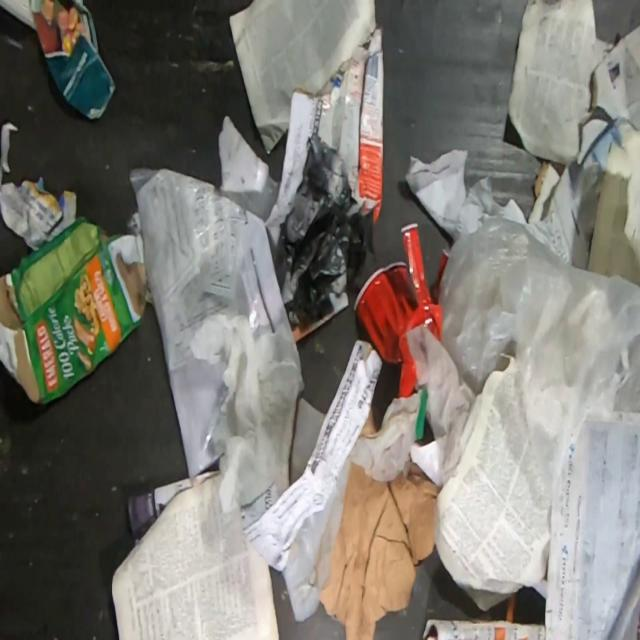cardboard: (0, 217, 148, 407), (527, 23, 640, 271), (308, 22, 384, 221)
rigid_plastic: (352, 220, 442, 397)
soft_plastic: (439, 218, 640, 499), (127, 164, 290, 477), (274, 135, 377, 327)
